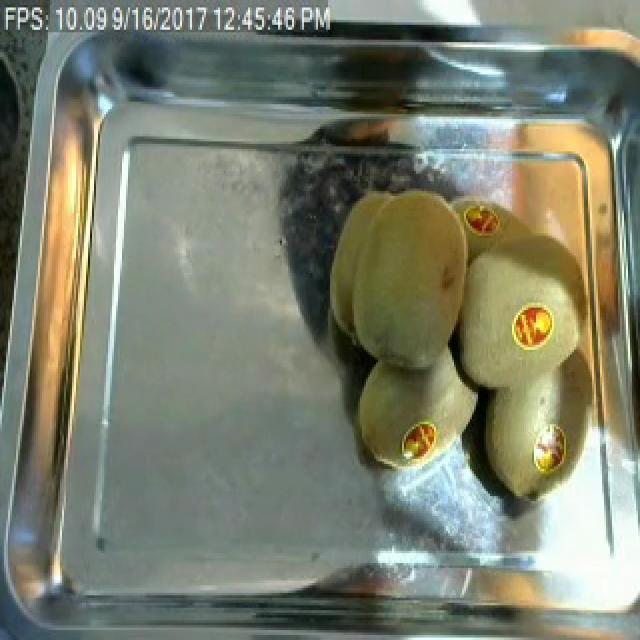Fruit: (318, 171, 488, 385), (346, 345, 484, 481), (504, 298, 564, 357)
